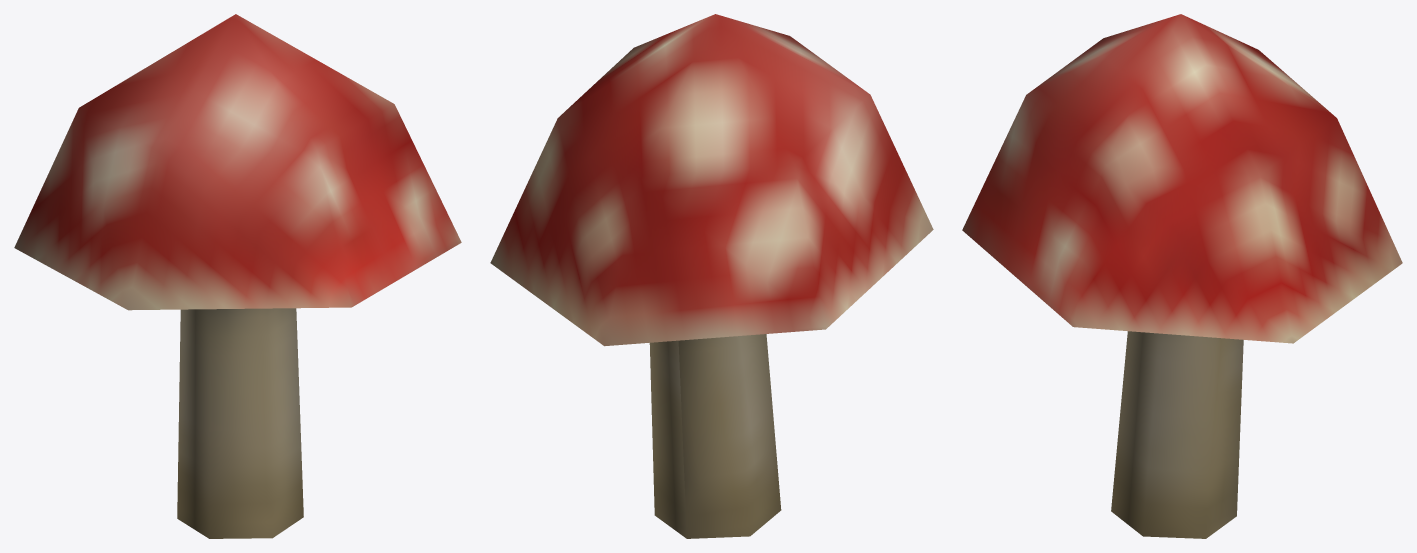
File: Mushroom3B.fbx
3 views of the same model, side by side, from view 1: azimuth 30°, elevation 25°; view 2: azimuth 150°, elevation 25°; view 3: azimuth 270°, elevation 25° (orthographic).
Visible parts, largest first — view 1: Mushroom3B; view 2: Mushroom3B; view 3: Mushroom3B.
Boxes of the visible parts, bbox=[...] form: Mushroom3B: bbox=[14, 14, 461, 538]; Mushroom3B: bbox=[490, 14, 933, 538]; Mushroom3B: bbox=[962, 14, 1402, 538].
Size of the model in its own units: 29.98 by 42.79 by 34.04.
Materials: 1 (1 with a texture image).
